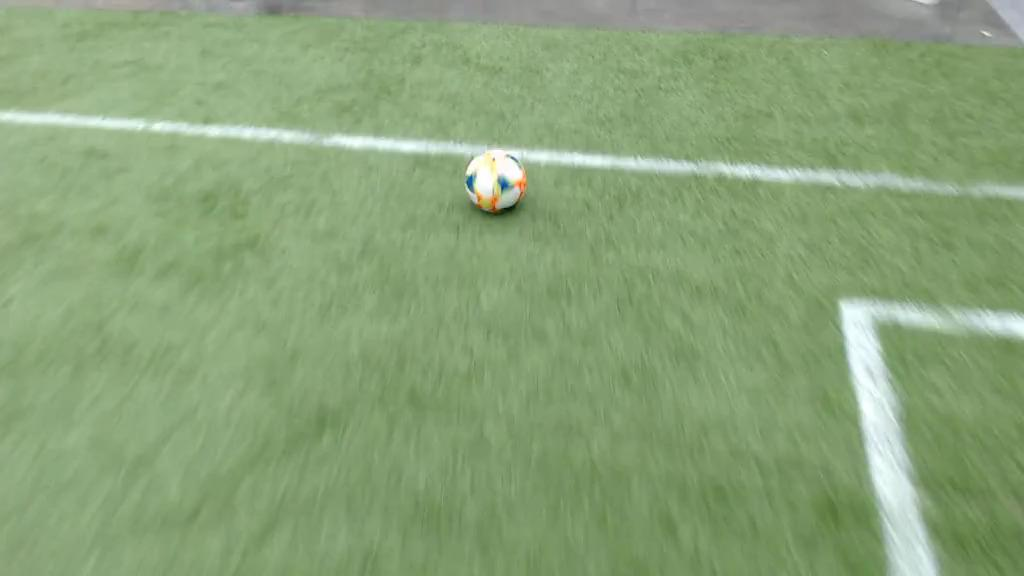ball: (463, 149, 526, 215)
